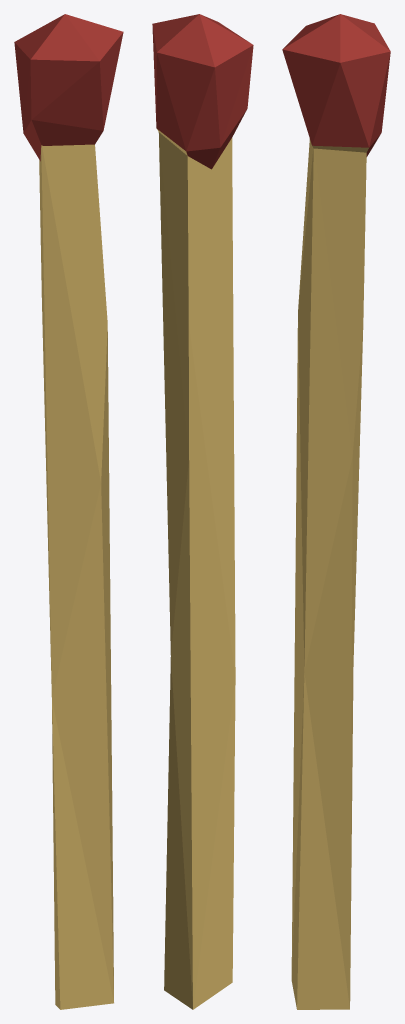
The model's file is allumette.fbx.
The picture shows the model from 3 angles, left to right: view 1: azimuth 90°, elevation 25°; view 2: azimuth 210°, elevation 25°; view 3: azimuth 270°, elevation 25°; orthographic projection.
Visible parts, largest first — view 1: Icosphere.006; view 2: Icosphere.006; view 3: Icosphere.006.
Boxes of the visible parts, x1=… form: Icosphere.006: x1=14, y1=14, x2=123, y2=1009; Icosphere.006: x1=152, y1=14, x2=253, y2=1009; Icosphere.006: x1=282, y1=14, x2=390, y2=1009.
Size of the model in its own units: 61.66 by 733 by 72.8.
